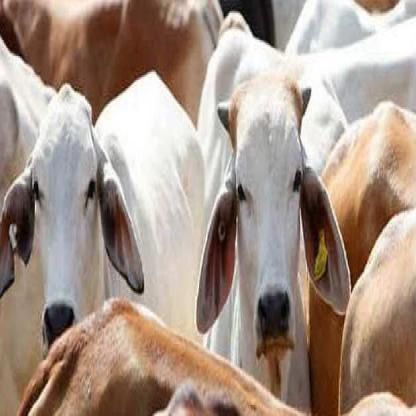cow: (196, 69, 352, 379), (0, 76, 143, 367)
